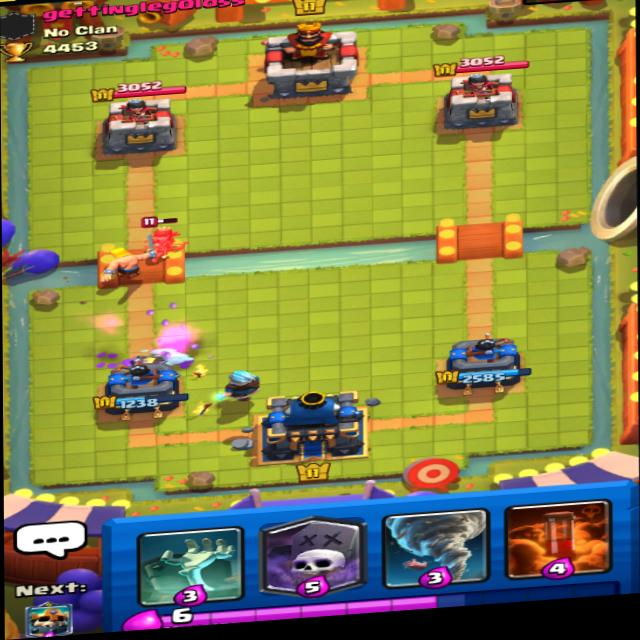princess: (142, 212, 194, 262)
